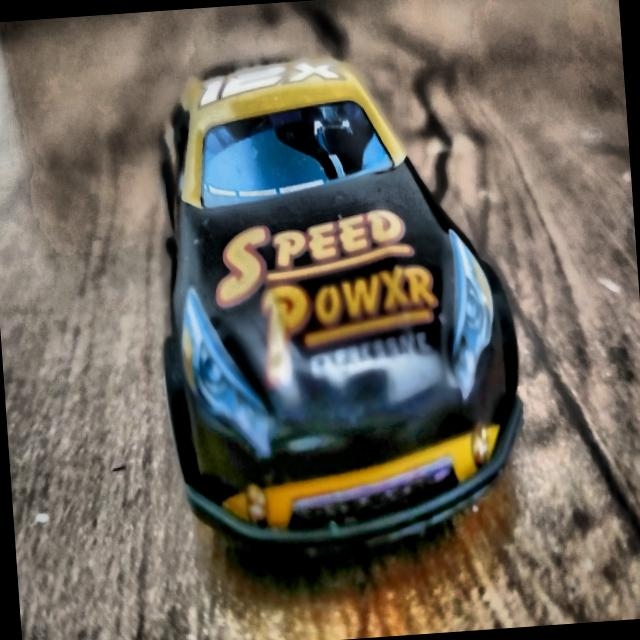Car: (137, 46, 536, 569)
